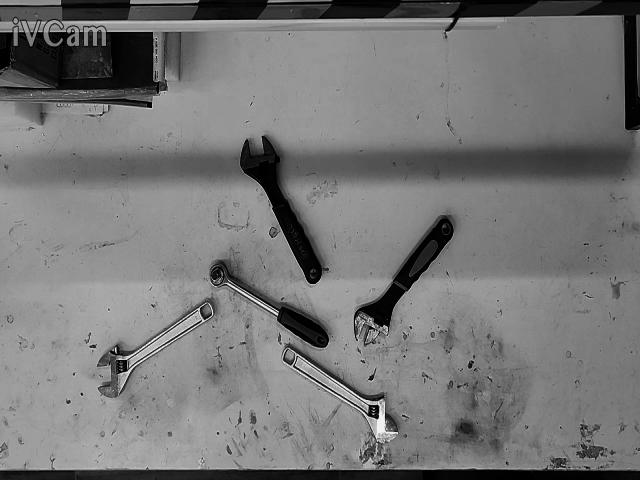Adjustable spanner: (355, 218, 454, 345), (240, 137, 322, 283), (98, 302, 214, 398), (281, 347, 398, 442)
Ratchet: (208, 263, 328, 348)
